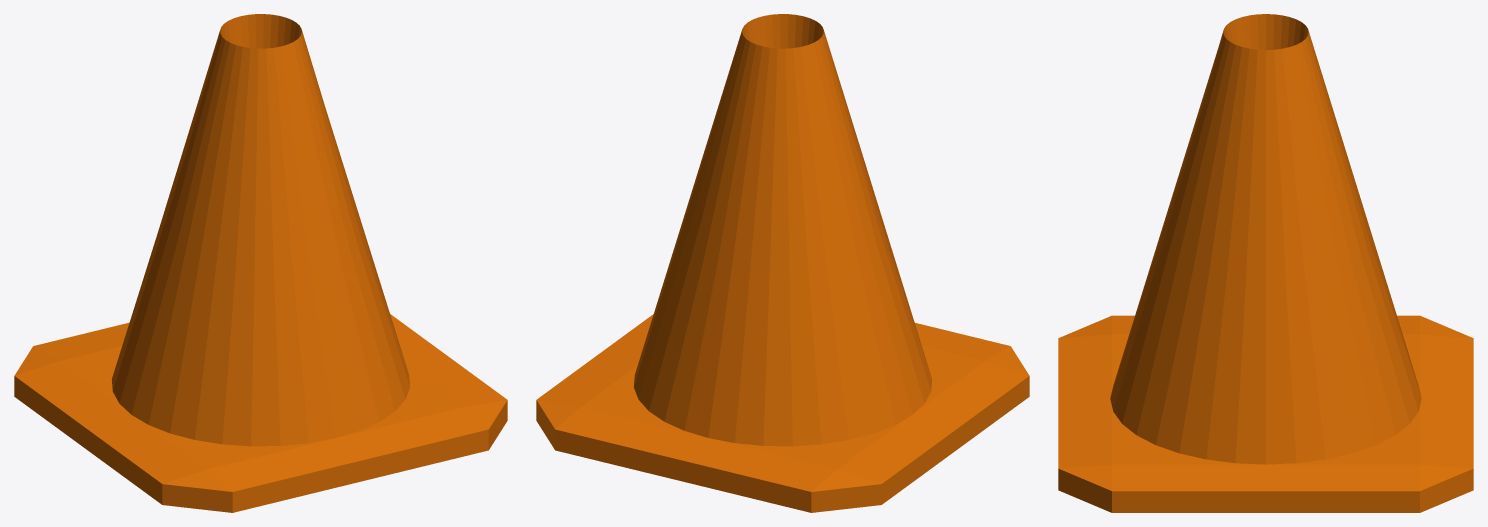
The model's file is trafficcone.fbx.
3 views of the same model, side by side, from view 1: azimuth 30°, elevation 25°; view 2: azimuth 150°, elevation 25°; view 3: azimuth 270°, elevation 25° (orthographic). The views are drawn at different scales.
Parts seen in each view (by area): view 1: Cone, Cube; view 2: Cone, Cube; view 3: Cone, Cube.
Part boxes in pixels (x1,y1,x2,y2): Cone: [111, 14, 410, 446]; Cube: [14, 314, 507, 512]; Cone: [633, 14, 932, 446]; Cube: [536, 314, 1029, 512]; Cone: [1110, 14, 1421, 464]; Cube: [1058, 315, 1473, 512].
Size of the model in its own units: 200 by 211 by 200.
